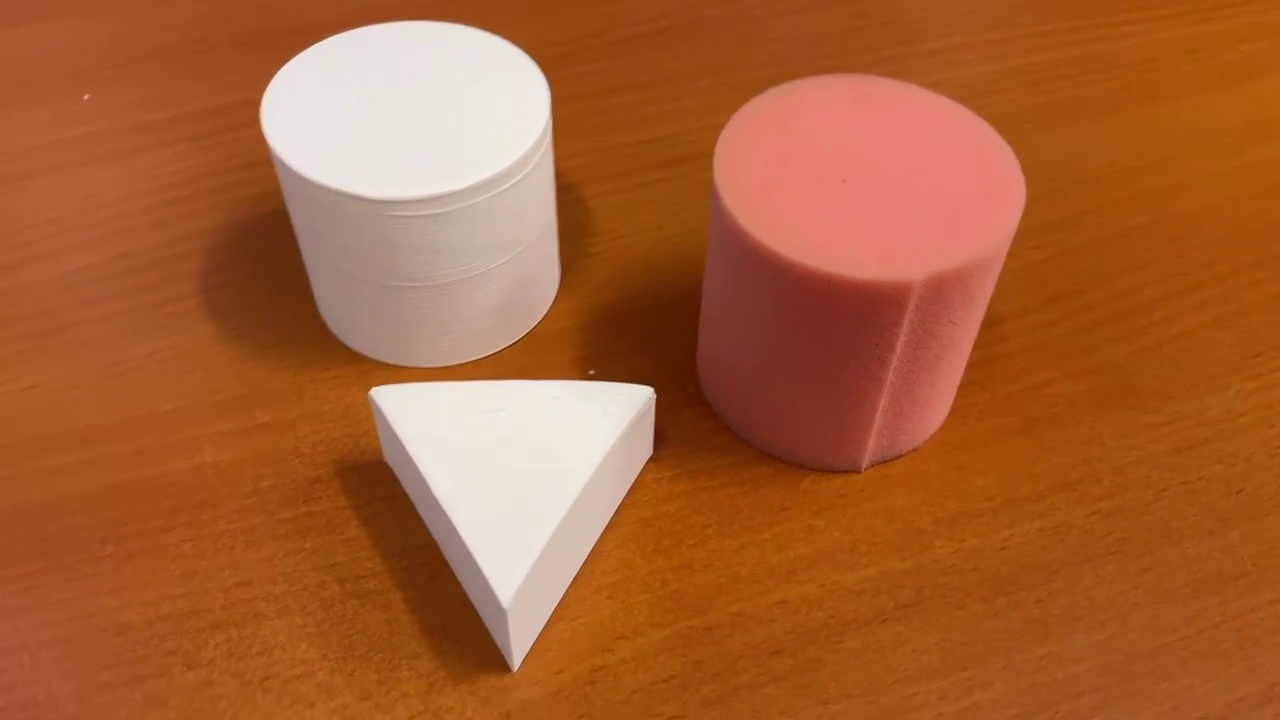Cylinder: (692, 66, 1029, 480), (255, 16, 568, 371)
Triangle_short: (363, 369, 660, 672)
